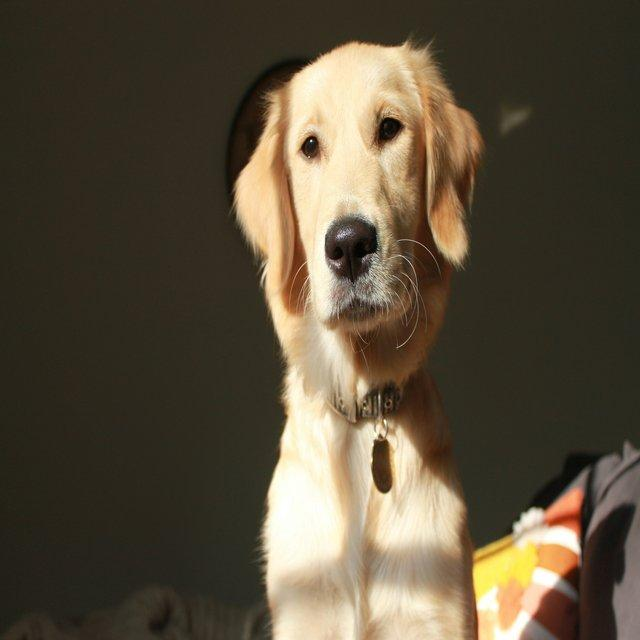retriever: (227, 35, 486, 639)
